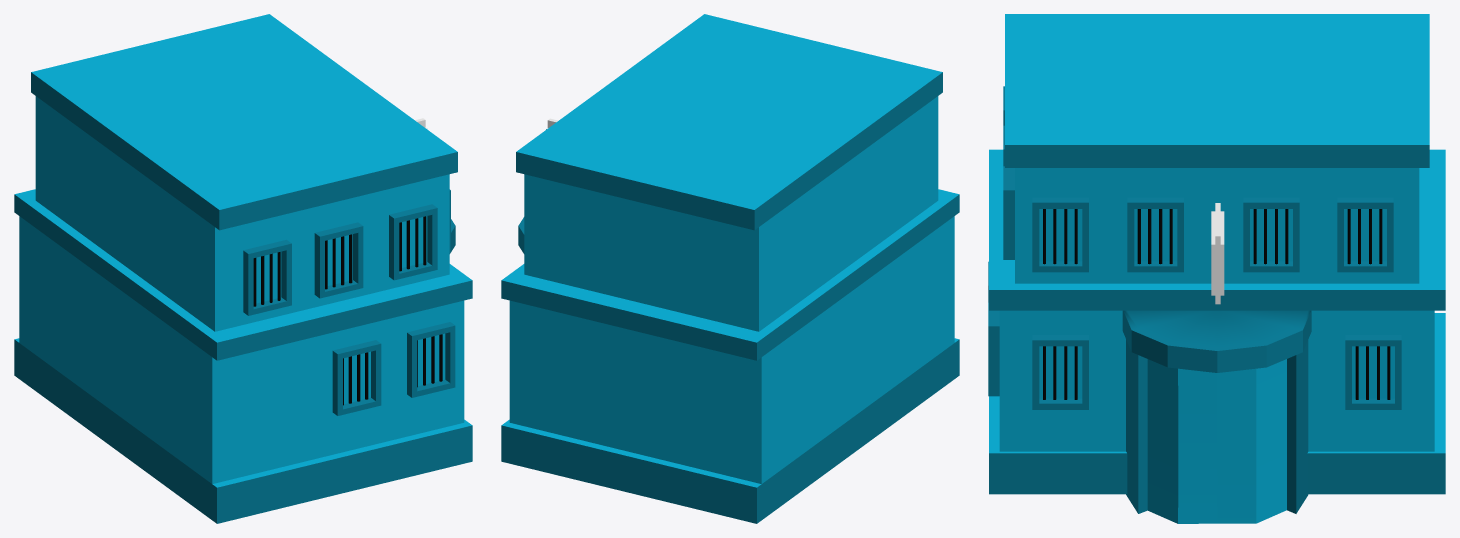
The model's file is copsquarter.fbx.
3 views of the same model, side by side, from view 1: azimuth 30°, elevation 25°; view 2: azimuth 150°, elevation 25°; view 3: azimuth 270°, elevation 25° (orthographic). The views are drawn at different scales.
Visible parts, largest first — view 1: polySurface158, polySurface157, polySurface114, polySurface129, polySurface109, polySurface134, polySurface124; view 2: polySurface158, polySurface157; view 3: polySurface158, polySurface157, polySurface156, polySurface119, polySurface139, polySurface104, polySurface145, polySurface150, polySurface155, polySurface140, polySurface124, polySurface109.
Boxes of the visible parts, box(x1,y1,x2,y2) form: polySurface158: box(31, 14, 457, 331); polySurface157: box(14, 189, 472, 523); polySurface114: box(332, 340, 381, 415); polySurface129: box(314, 222, 363, 298); polySurface109: box(407, 322, 455, 397); polySurface134: box(243, 239, 291, 315); polySurface124: box(389, 204, 437, 280); polySurface158: box(516, 14, 942, 331); polySurface157: box(501, 189, 959, 523); polySurface158: box(1005, 14, 1429, 283); polySurface157: box(989, 149, 1445, 494); polySurface156: box(1122, 310, 1311, 523); polySurface119: box(1032, 197, 1088, 272); polySurface139: box(1127, 197, 1183, 272); polySurface104: box(1032, 335, 1088, 409); polySurface145: box(1243, 197, 1299, 272); polySurface150: box(1337, 197, 1393, 272); polySurface155: box(1345, 335, 1401, 409); polySurface140: box(1211, 203, 1224, 304); polySurface124: box(1003, 166, 1014, 259); polySurface109: box(988, 302, 999, 396).
Bounding box in the file's own units: 18.93 × 17.02 × 20.29.
